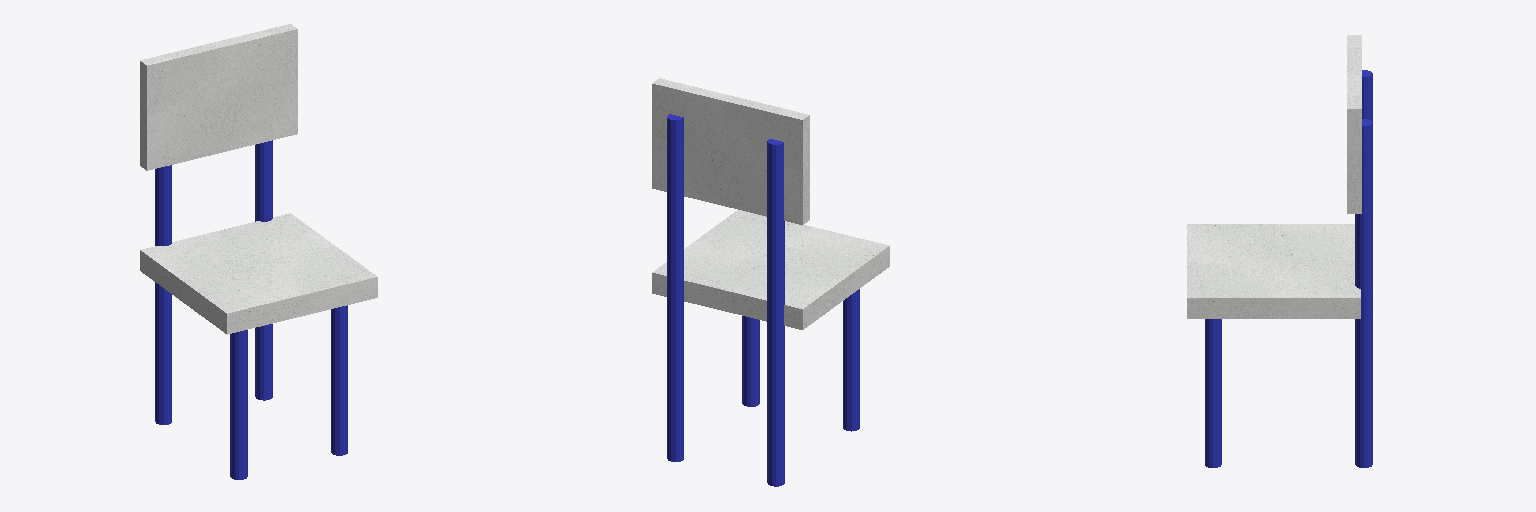
The picture shows the model from 3 angles: view 1: azimuth 30°, elevation 25°; view 2: azimuth 150°, elevation 25°; view 3: azimuth 270°, elevation 25°; orthographic projection.
Parts seen in each view (by area): view 1: mesh01, mesh02, cylinder01, cylinder03, cylinder02, cylinder04; view 2: mesh01, mesh02, cylinder01, cylinder03, cylinder02, cylinder04; view 3: mesh01, cylinder03, mesh02, cylinder04, cylinder01.
Boxes of the visible parts, <box> form: mesh01: <box>140,213,377,334</box>; mesh02: <box>140,24,297,170</box>; cylinder01: <box>155,165,171,424</box>; cylinder03: <box>255,140,272,400</box>; cylinder02: <box>230,330,247,479</box>; cylinder04: <box>331,305,347,455</box>; mesh01: <box>652,210,889,329</box>; mesh02: <box>652,78,809,224</box>; cylinder01: <box>767,139,784,486</box>; cylinder03: <box>667,114,683,461</box>; cylinder02: <box>843,289,859,431</box>; cylinder04: <box>742,316,759,406</box>; mesh01: <box>1187,224,1360,318</box>; cylinder03: <box>1355,119,1372,467</box>; mesh02: <box>1347,35,1361,213</box>; cylinder04: <box>1205,319,1221,467</box>; cylinder01: <box>1362,70,1372,121</box>.
Bounding box in the file's own units: 1.5 × 3.5 × 1.6.
Materials: 2 (2 with a texture image).